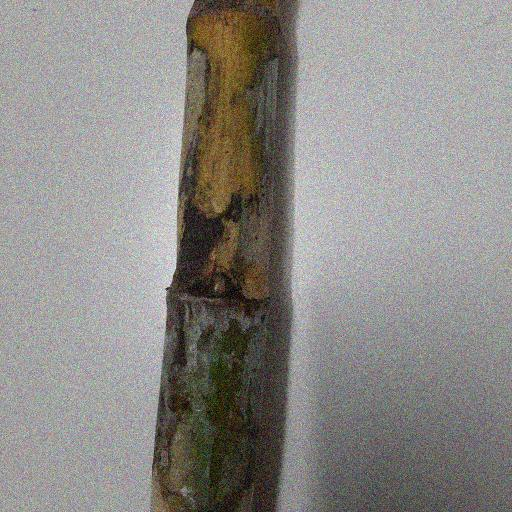Bud: (212, 276, 226, 297)
